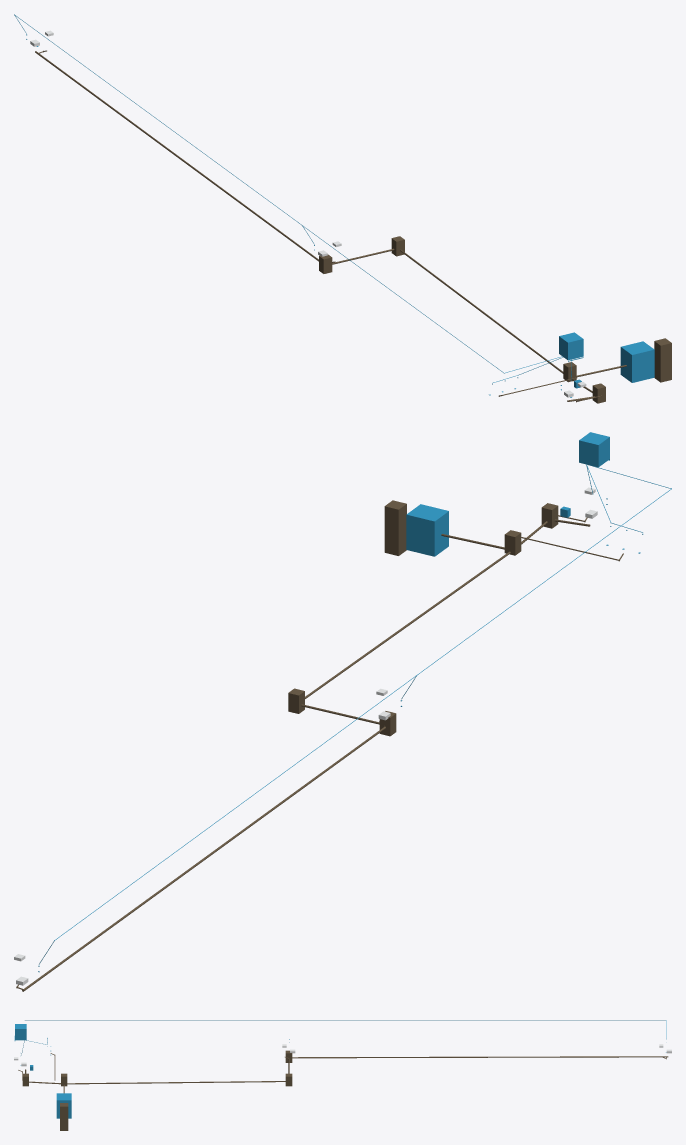
File: air.glb
3 renders of one model, top to bottom at view 1: azimuth 30°, elevation 25°; view 2: azimuth 150°, elevation 25°; view 3: azimuth 270°, elevation 25°, orthographic. The views are drawn at different scales.
Visible parts, largest first — view 1: air; view 2: air; view 3: air.
Part boxes in pixels (box(x1,y1,x2,y2)): air: box(14, 14, 671, 403); air: box(14, 432, 671, 991); air: box(14, 1020, 671, 1130).
Bounding box in the file's own units: 13.81 × 6.5 × 61.73.
